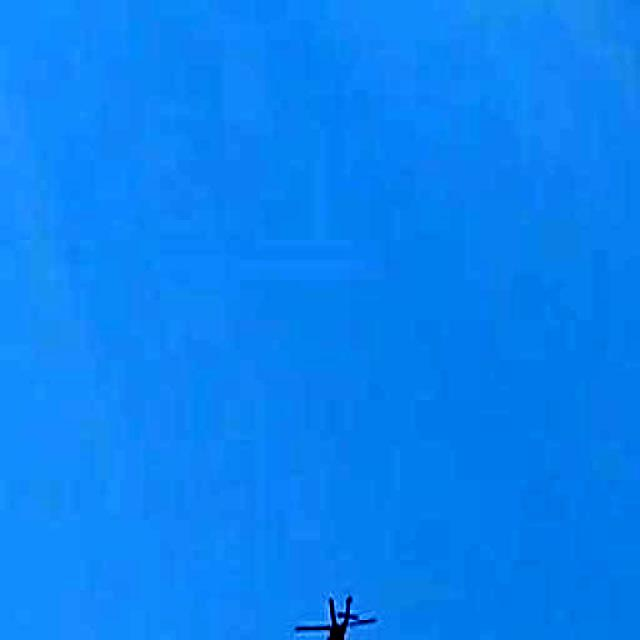drone: (289, 579, 395, 640)
